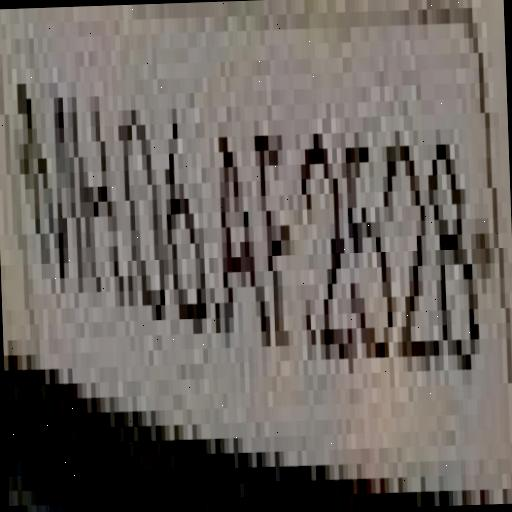number plate: (0, 52, 499, 445)
